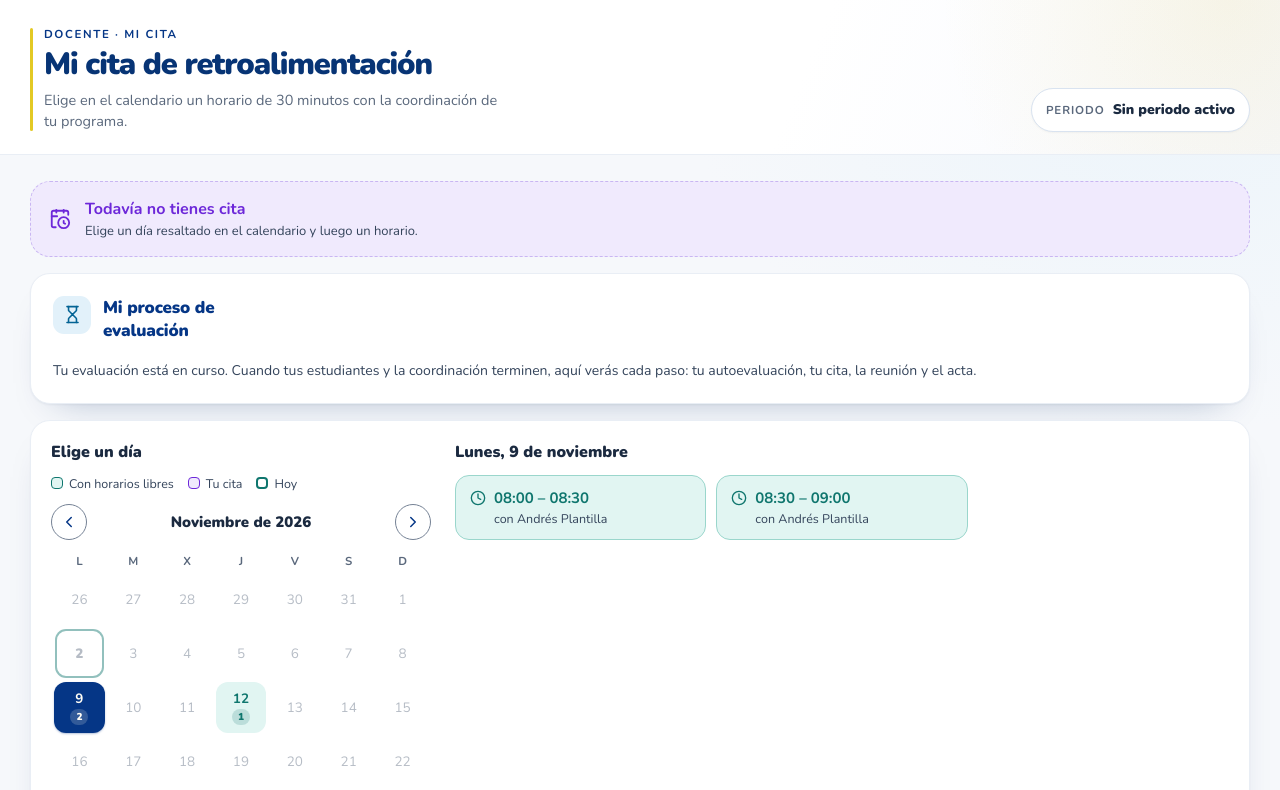
Test: MiCita › el calendario resalta los días con horarios y la reserva se confirma en un modal
Check: the text "Todavía no tienes cita" is shown, box [85,198,246,220]
Check: the button named "martes, 10 de noviembre" is disabled, box [108,682,159,732]
Click the button with aria-label "Reservar 9 de nov de 2026, 08:00–08:30".
click(581, 507)  # box [455,475,706,540]
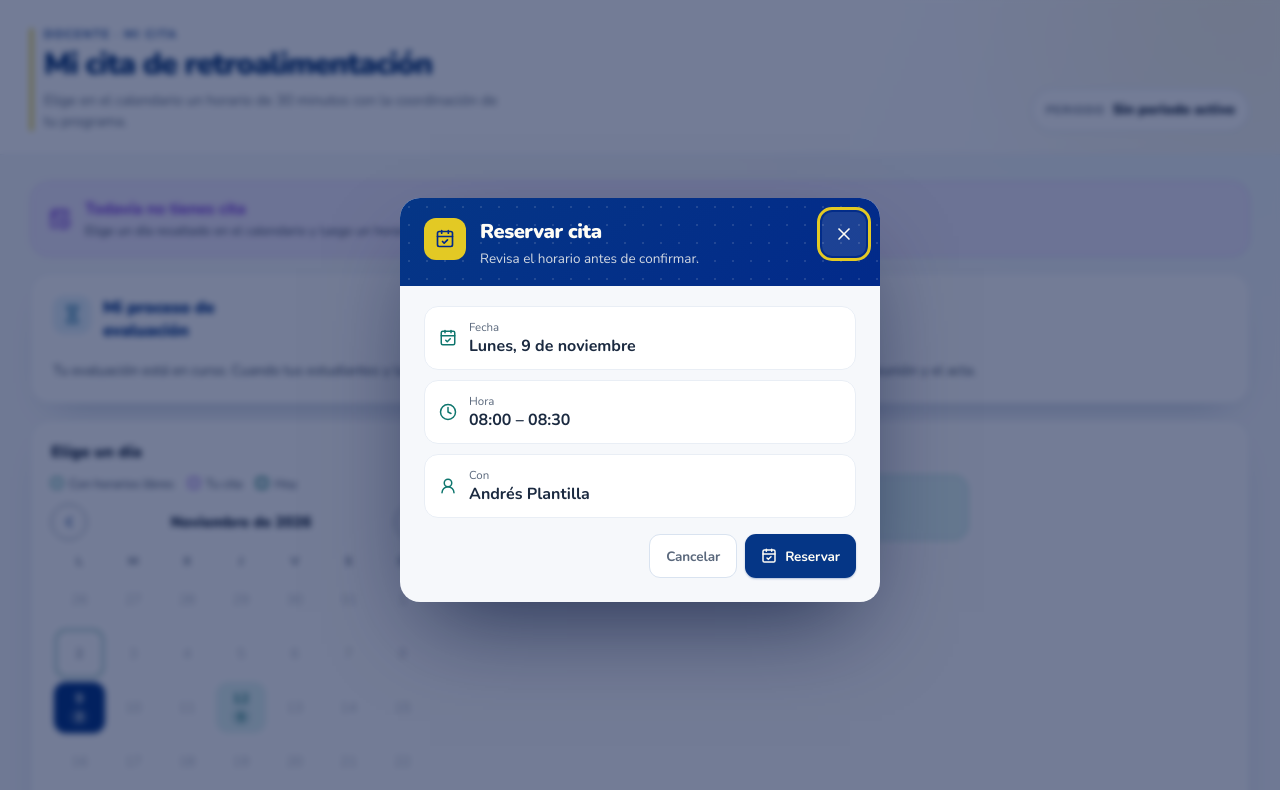
Check: the text "Andrés Plantilla" is shown, box [469,483,590,505]
Click the button "Reservar".
click(801, 556)  # box [745,534,856,578]
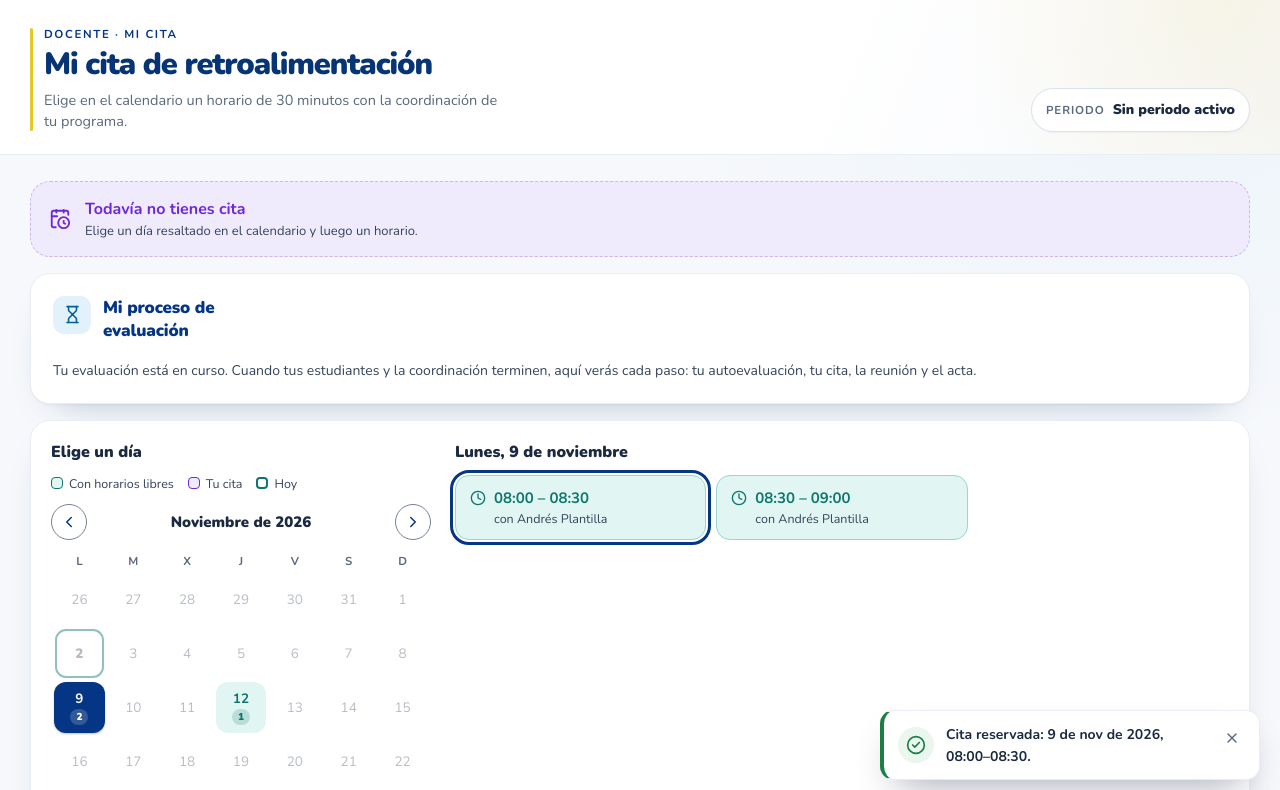
Check: the text "Cita reservada: 9 de nov de 2026, 08:00–08:30." is shown, box [946,725,1164,766]
